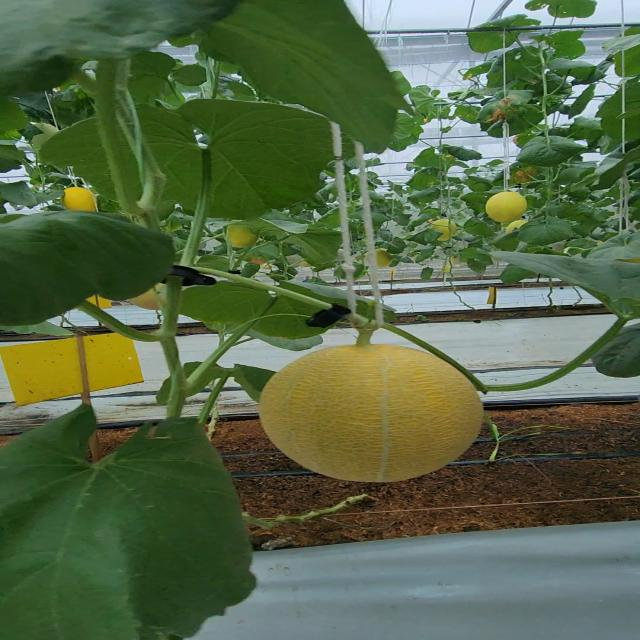Melon: (253, 340, 489, 490)
